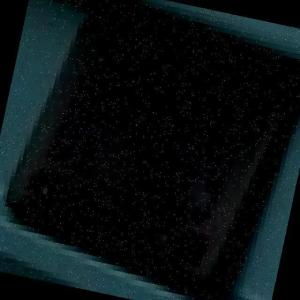Plate: (0, 0, 296, 300)
